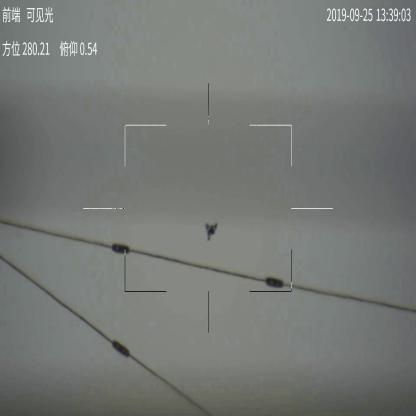uav: (204, 220, 218, 240)
